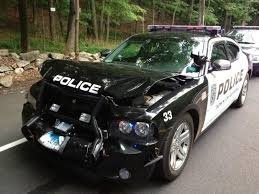Smashed: (21, 60, 193, 177)
